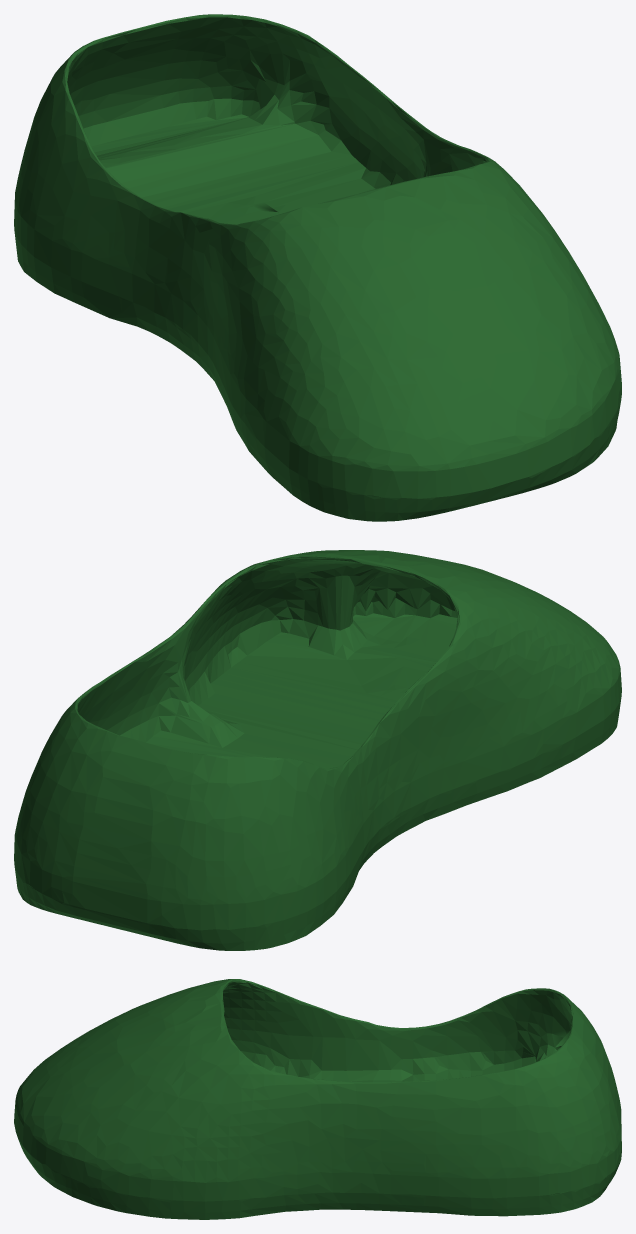
Rendered from sim_sea_2-5_l_sole_prt.obj.
3 views of the same model, one above another, from view 1: azimuth 30°, elevation 25°; view 2: azimuth 150°, elevation 25°; view 3: azimuth 270°, elevation 25° (orthographic). The views are drawn at different scales.
Parts seen in each view (by area): view 1: sim_sea_2-5_l_sole_prt.001; view 2: sim_sea_2-5_l_sole_prt.001; view 3: sim_sea_2-5_l_sole_prt.001.
Part boxes in pixels (box(x1,y1,x2,y2)): sim_sea_2-5_l_sole_prt.001: box(14, 14, 621, 521); sim_sea_2-5_l_sole_prt.001: box(14, 550, 621, 950); sim_sea_2-5_l_sole_prt.001: box(14, 979, 621, 1219).
Size of the model in its own units: 97.02 by 55.08 by 198.
